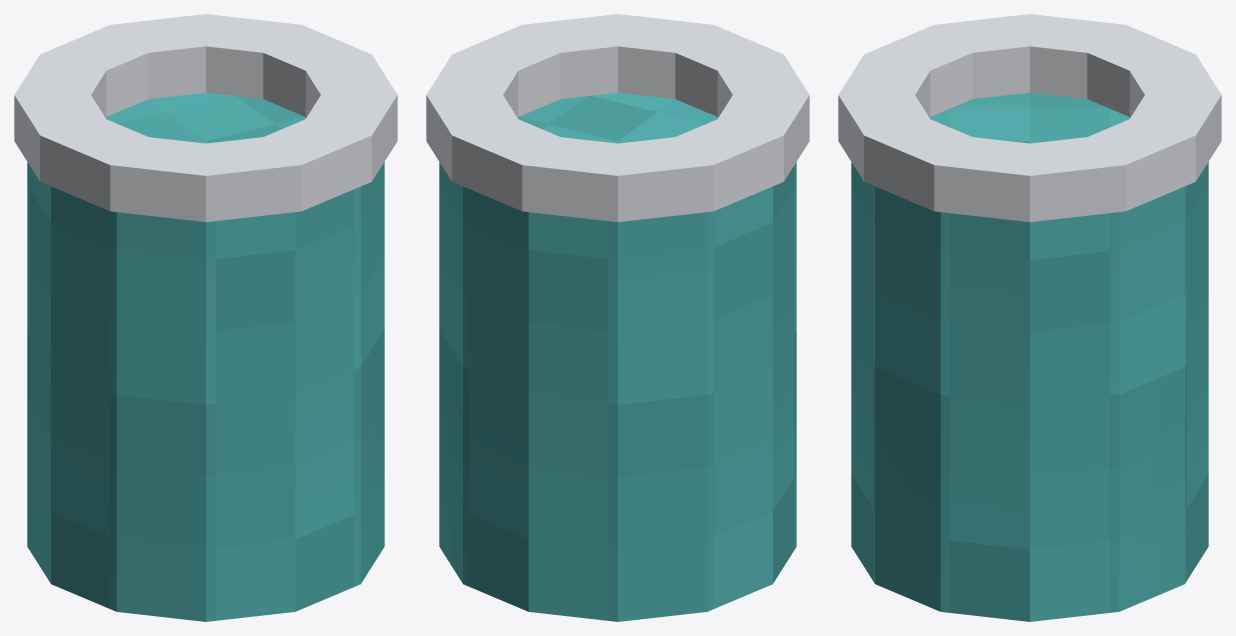
File: three-d-retro-arcade-and-mall-1989-retro-arcade-and-mall-1989-mall-bin-816b3425.glb
3 renders of one model, left to right at view 1: azimuth 30°, elevation 25°; view 2: azimuth 150°, elevation 25°; view 3: azimuth 270°, elevation 25°, orthographic.
Parts seen in each view (by area): view 1: mall-bin; view 2: mall-bin; view 3: mall-bin.
Boxes of the visible parts, x1,y1,x2,y2 form: mall-bin: [14, 14, 397, 621]; mall-bin: [426, 14, 809, 621]; mall-bin: [838, 14, 1221, 621].
Bounding box in the file's own units: 0.6 × 0.78 × 0.6.
2 materials, 1 textured.
